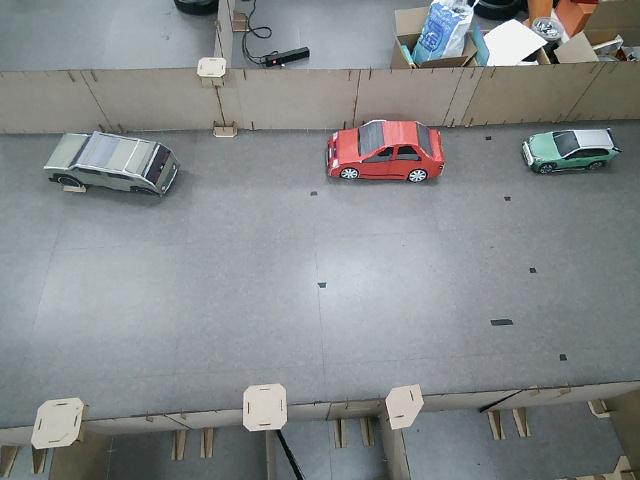car: (38, 126, 188, 204), (321, 115, 450, 189), (518, 124, 627, 177)
